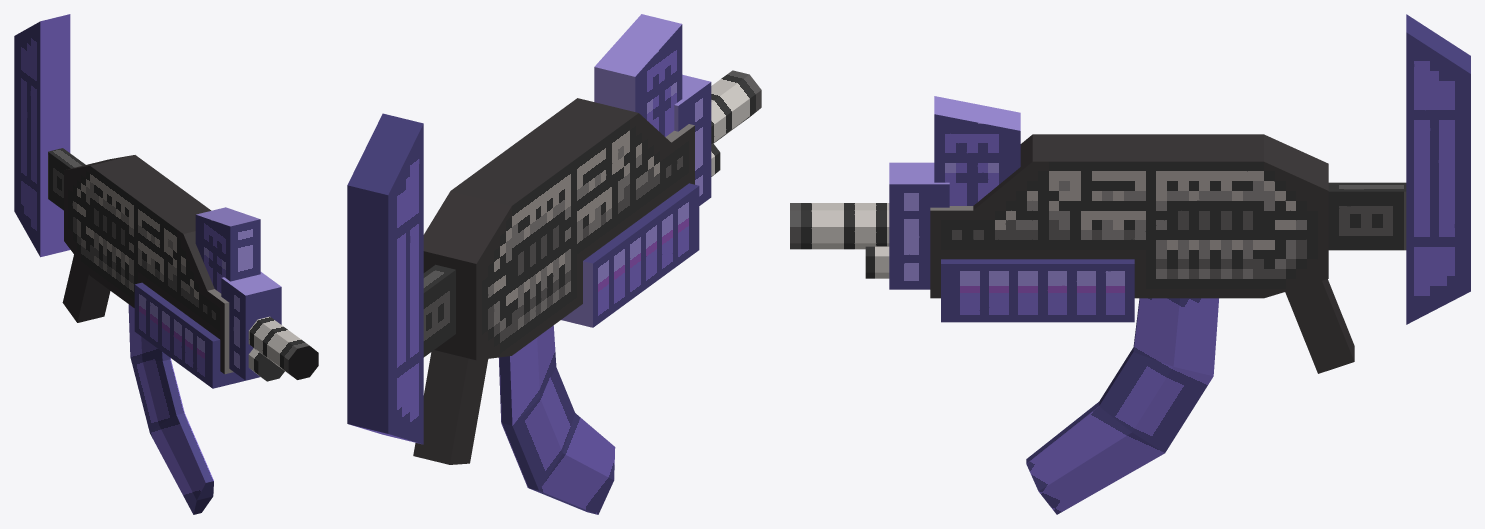
Rendered from SubMachineGun.gltf.
3 renders of one model, left to right at view 1: azimuth 30°, elevation 25°; view 2: azimuth 150°, elevation 25°; view 3: azimuth 270°, elevation 25°, orthographic. The views are drawn at different scales.
Visible parts, largest first — view 1: Body, Stock, Magazine, Grip, Hair, Brace, Barrel, cuboid, StockArm, SubBarrel; view 2: Body, Stock, Magazine, Grip, Hair, cuboid, Brace, StockArm, Barrel; view 3: Body, Magazine, Stock, Grip, Hair, Brace, StockArm, Barrel, cuboid, SubBarrel.
Part boxes in pixels (left/top/right/bottom): Body: left=64, top=155, right=233, bottom=374; Stock: left=14, top=14, right=70, bottom=257; Magazine: left=128, top=304, right=213, bottom=514; Grip: left=134, top=282, right=253, bottom=388; Hair: left=195, top=207, right=260, bottom=293; Brace: left=221, top=272, right=281, bottom=380; Barrel: left=248, top=316, right=318, bottom=379; cuboid: left=62, top=255, right=110, bottom=322; StockArm: left=48, top=148, right=85, bottom=210; SubBarrel: left=248, top=348, right=284, bottom=381; Body: left=423, top=98, right=694, bottom=360; Stock: left=347, top=113, right=423, bottom=444; Magazine: left=499, top=325, right=615, bottom=514; Grip: left=561, top=183, right=699, bottom=327; Hair: left=594, top=14, right=682, bottom=136; cuboid: left=413, top=350, right=488, bottom=464; Brace: left=674, top=74, right=711, bottom=205; StockArm: left=423, top=264, right=455, bottom=357; Barrel: left=711, top=70, right=761, bottom=144; Body: left=930, top=134, right=1328, bottom=298; Magazine: left=1026, top=298, right=1218, bottom=514; Stock: left=1406, top=14, right=1470, bottom=324; Grip: left=941, top=259, right=1134, bottom=322; Hair: left=934, top=96, right=1020, bottom=205; Brace: left=889, top=162, right=949, bottom=289; StockArm: left=1328, top=182, right=1406, bottom=250; Barrel: left=790, top=203, right=889, bottom=249; cuboid: left=1285, top=279, right=1354, bottom=373; SubBarrel: left=865, top=246, right=889, bottom=278.
Size of the model in its own units: 0.125 by 0.7819 by 0.9875.
1 material, 1 textured.
